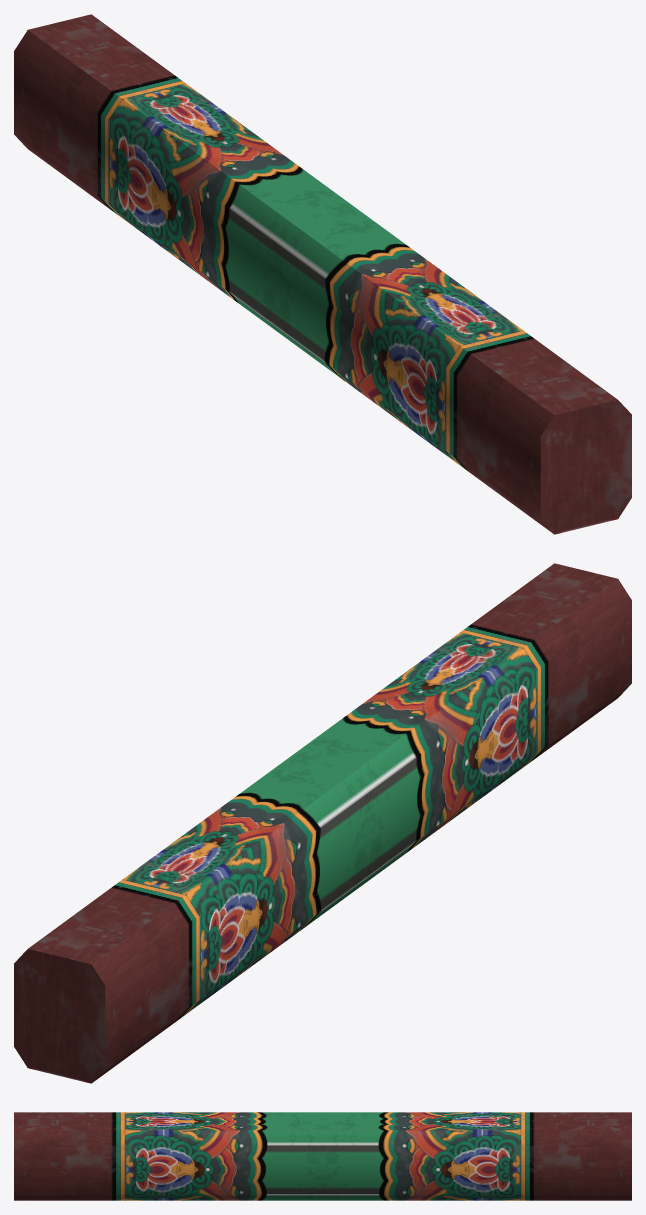
File: SM_Lintel01g.fbx
The picture shows the model from 3 angles, top to bottom: view 1: azimuth 30°, elevation 25°; view 2: azimuth 150°, elevation 25°; view 3: azimuth 270°, elevation 25°; orthographic projection. The views are drawn at different scales.
Parts seen in each view (by area): view 1: SM_Lintel01g; view 2: SM_Lintel01g; view 3: SM_Lintel01g.
Boxes of the visible parts, x1,y1,x2,y2 form: SM_Lintel01g: [14, 14, 631, 534]; SM_Lintel01g: [14, 563, 631, 1083]; SM_Lintel01g: [14, 1112, 631, 1200].
Bounding box in the file's own units: 16 × 160 × 20.
Materials: 1 (1 with a texture image).
